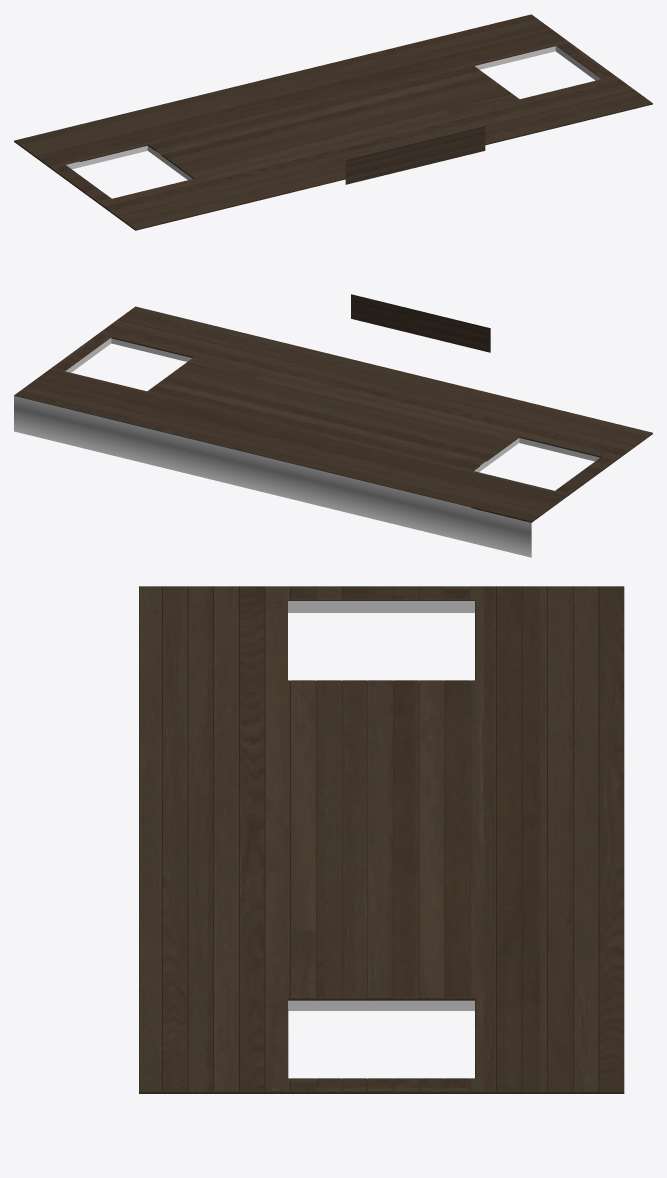
Rendered from pool_wood.gltf.
3 renders of one model, top to bottom at view 1: azimuth 30°, elevation 25°; view 2: azimuth 150°, elevation 25°; view 3: azimuth 270°, elevation 25°, orthographic. The views are drawn at different scales.
Parts seen in each view (by area): view 1: Object34292, Plane042.001, Object34289; view 2: Object34292, Object34289, Plane042.001; view 3: Object34292, Object34289.
Part boxes in pixels (x1,y1,x2,y2): Object34292: (14, 14, 652, 230); Plane042.001: (345, 126, 485, 184); Object34289: (66, 46, 601, 179); Object34292: (14, 306, 652, 522); Object34289: (14, 338, 599, 557); Plane042.001: (351, 294, 490, 352); Object34292: (139, 586, 624, 1093); Object34289: (288, 601, 474, 1010).
Bounding box in the file's own units: 4.23 × 0.6057 × 2.06.
1 material, 1 textured.
